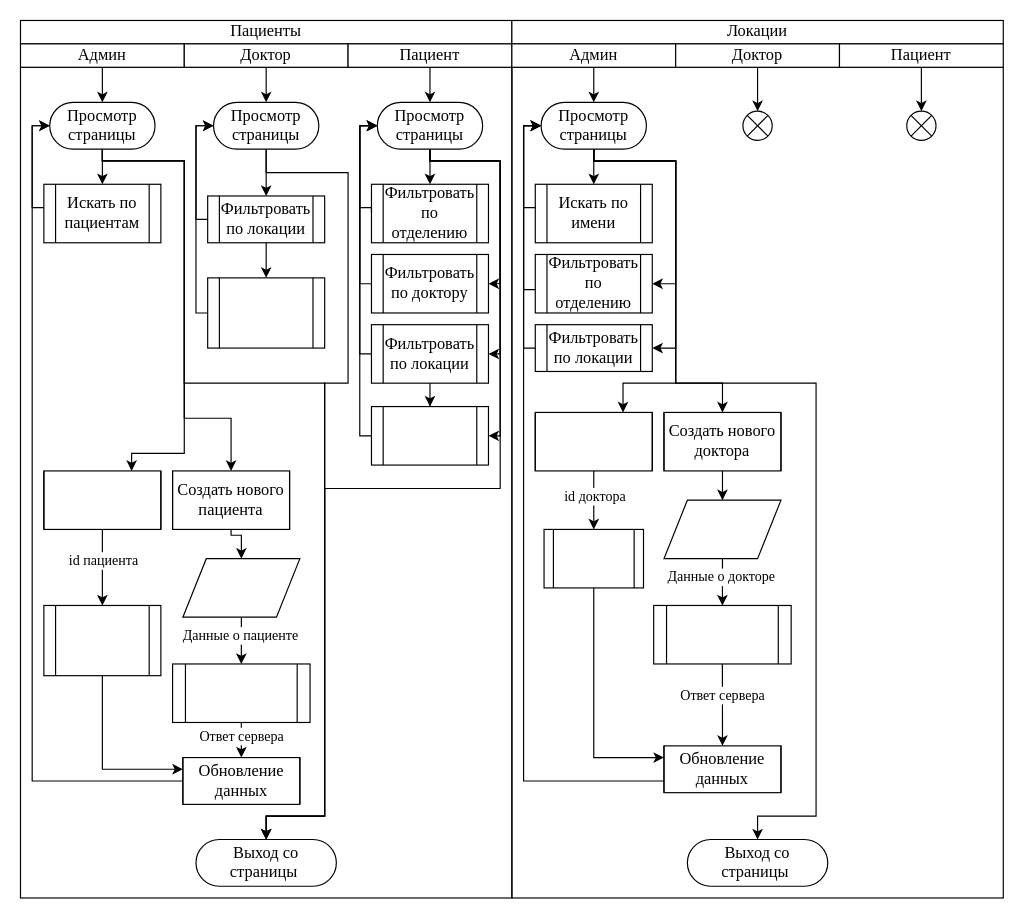
The diagram is 1024 pixels wide and 918 high, and some of its shapes have lost their labels. Here are the shapes that lost their labels. From the top down, the centre of each, then its label:
At (266,312): "Фильтровать кабинету".
At (429,435): "Фильтровать по кабинету".
At (593,441): "Удалить доктора".
At (102,499): "Удалить пациента".
At (722,529): "Внести данные о докторе".
At (593,558): "DELETE запрос на /doctor".
At (241,587): "Внести данные о пациенте".
At (102,640): "DELETE запрос на /user/patient".
At (722,634): "POST запрос на /doctor".
At (240,692): "POST запрос на /user/patient".
